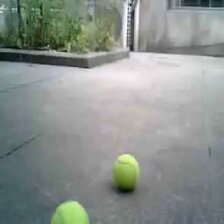tennis: (112, 155, 140, 189), (52, 199, 88, 224)
